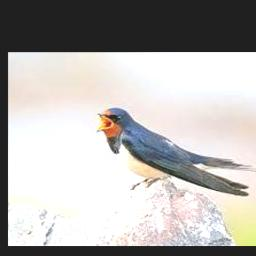Swallow: (96, 108, 251, 196)
